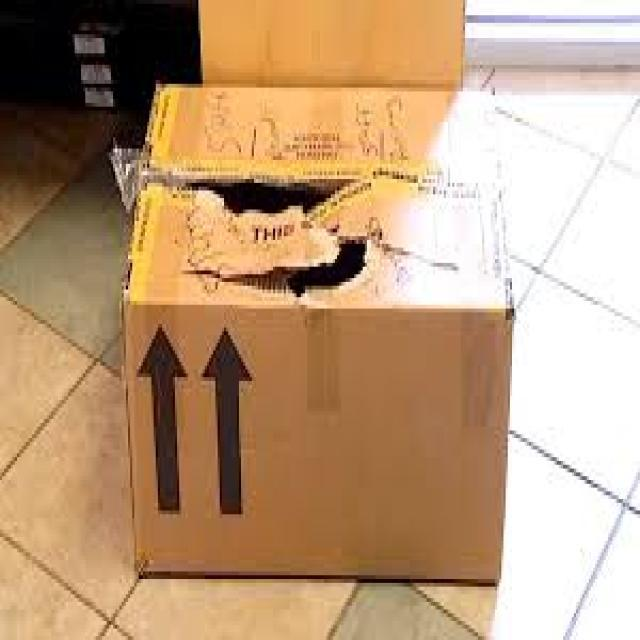box: (123, 82, 511, 587)
opened: (176, 164, 375, 301)
